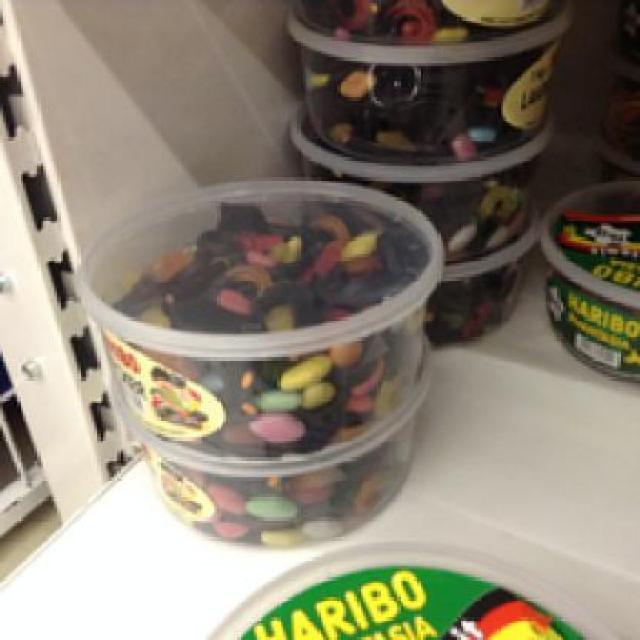Candy: (77, 174, 443, 457), (117, 406, 423, 548), (282, 11, 568, 162), (532, 174, 638, 383)
